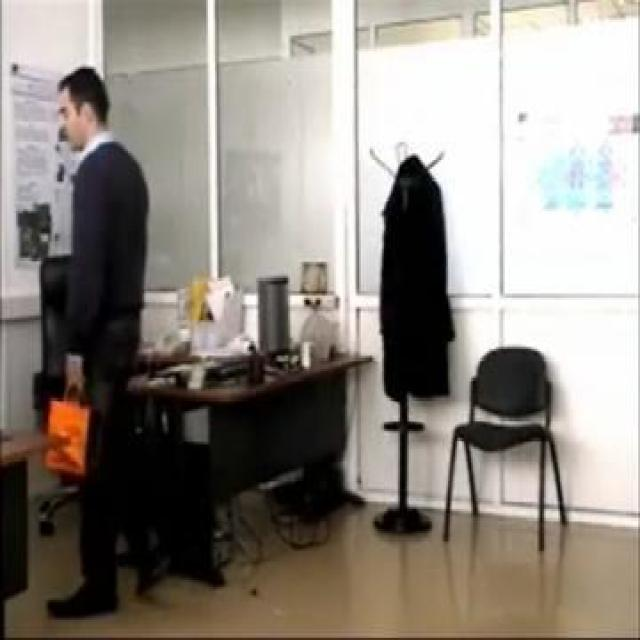other: (41, 386, 86, 473)
